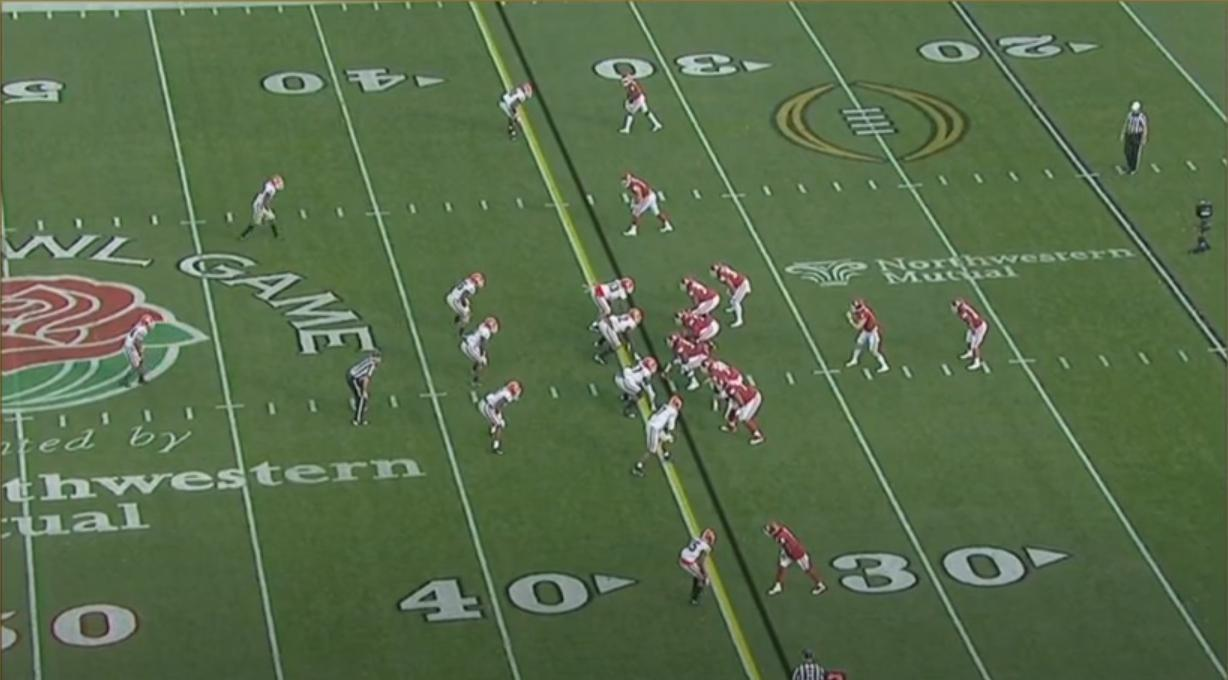player: (768, 519, 832, 600), (633, 394, 688, 481), (620, 168, 680, 239), (715, 371, 763, 448), (240, 171, 290, 243), (616, 351, 664, 423), (483, 379, 527, 456), (617, 69, 665, 139), (843, 296, 885, 375), (680, 525, 719, 610), (123, 312, 162, 393), (595, 308, 650, 364), (462, 313, 504, 385), (446, 270, 488, 342), (951, 294, 988, 370), (667, 334, 713, 395), (586, 275, 637, 330), (715, 260, 754, 331), (700, 355, 743, 415), (503, 80, 539, 144), (676, 309, 720, 355), (681, 276, 722, 319)
ref: (344, 350, 384, 432), (1121, 97, 1154, 177)
